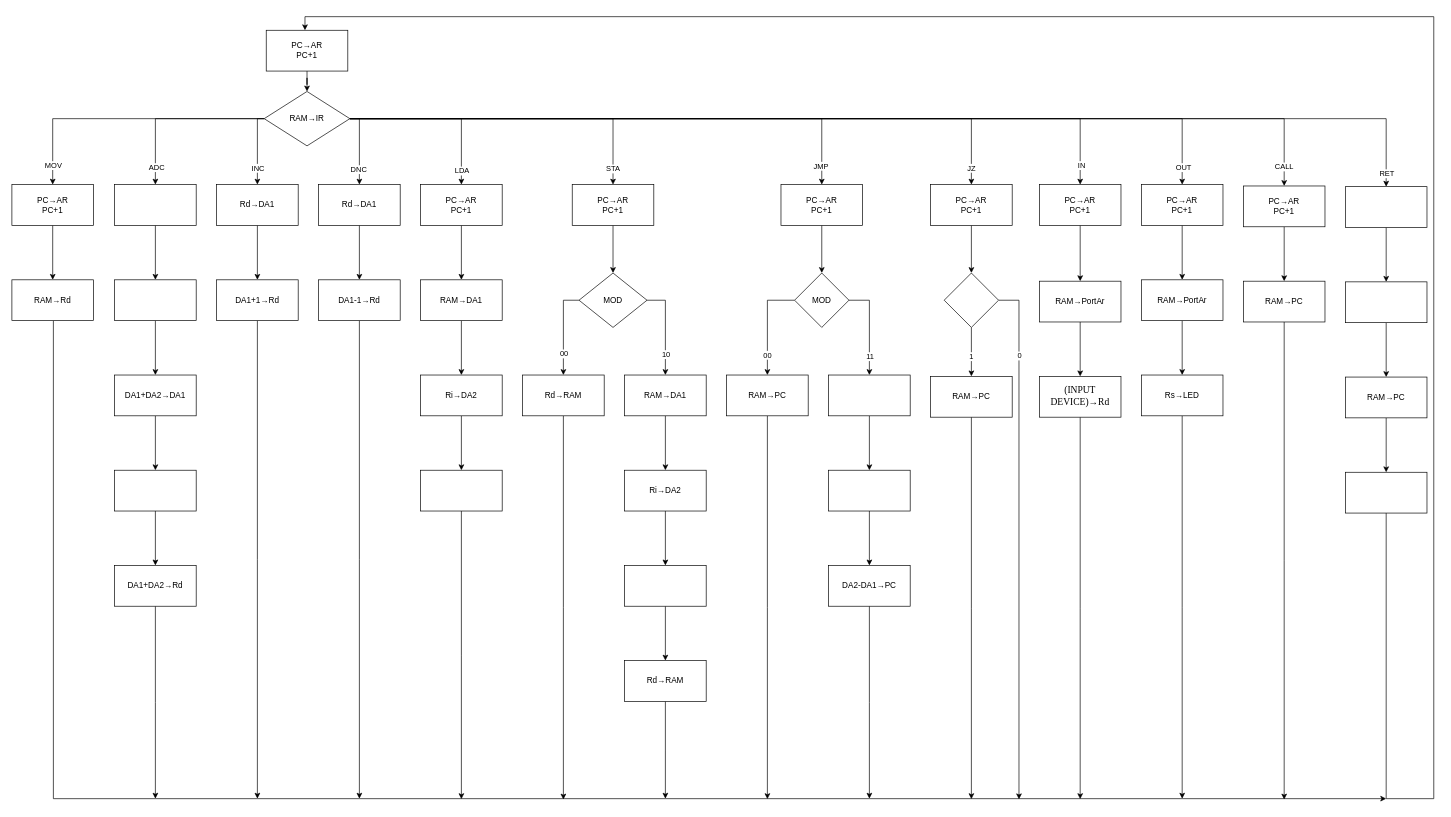
The diagram is 1451 pixels wide and 817 high, and some of its shapes have lost their labels. Here are the shapes that lost their labels. From the top down, the centre of each, then its label:
At pixel 155 204: "Rs→DA1".
At pixel 1386 206: "SP→AR".
At pixel 155 300: "Rd→DA2".
At pixel 971 299: "FZ".
At pixel 1386 302: "RAM→AR".
At pixel 869 395: "RAM →DA1".
At pixel 155 490: "CF→DA2".
At pixel 461 490: "DA1+DA2→R0".
At pixel 869 490: "PC →DA2".
At pixel 1386 492: "SP+1→SP".
At pixel 665 585: "DA1+DA2→AR".
